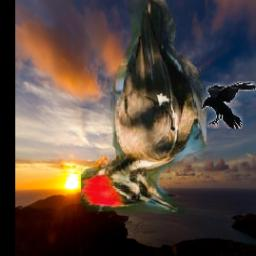Crow: (202, 81, 256, 129)
Woodpecker: (80, 0, 210, 214)
